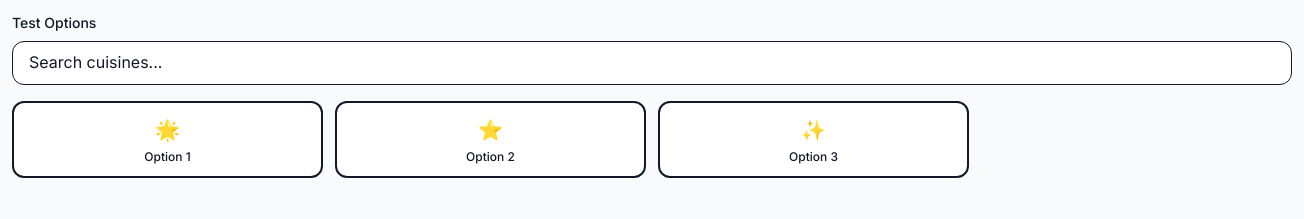
Test: MultiSelect › filters options based on search query
Type "Option 1" into the field with placeholder "Search cuisines...". click: (652, 63)
box: [12,41,1292,85]
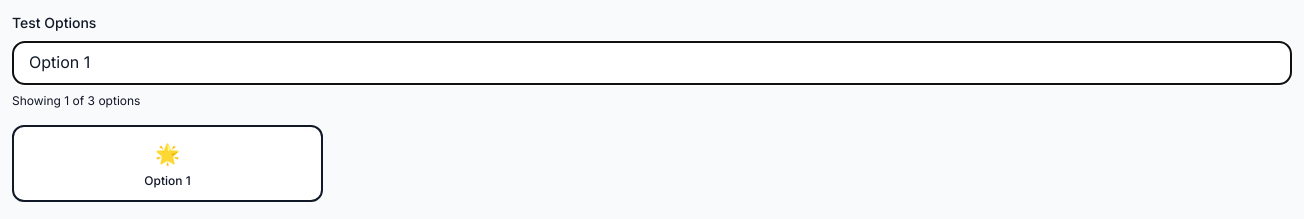
Expected: the text "Option 1" is shown, [144,173,191,188]
Expected: the button "Option 2" is gone
Expected: the button "Option 3" is gone
